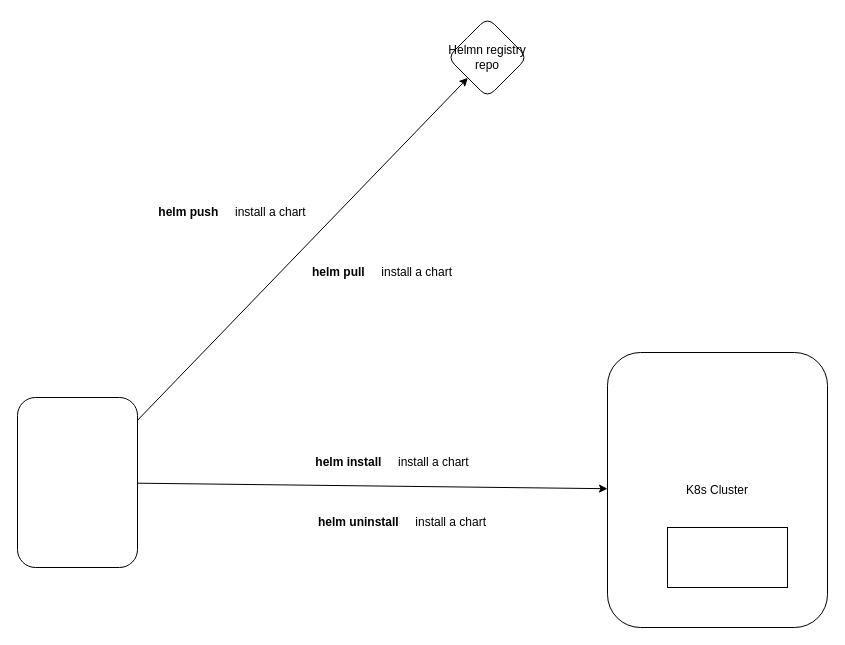
Some shapes in this 845 by 645 pixel diagram are drawn without their labels. The shapes that lost their labels are listed below. From the top down, each one's centre as x and y in pixels, then its label:
At point 77,482: "Helm chart".
At point 727,557: "Helm Release".
